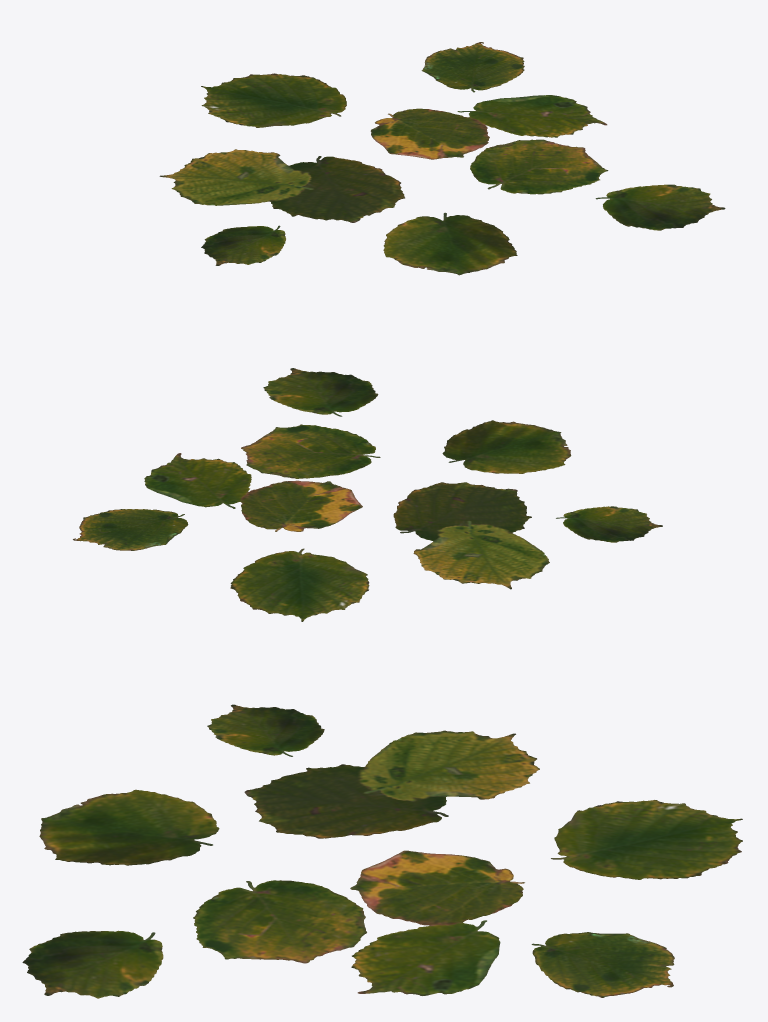
File: Leaves_Floor_01_C.fbx
The picture shows the model from 3 angles, top to bottom: view 1: azimuth 30°, elevation 25°; view 2: azimuth 150°, elevation 25°; view 3: azimuth 270°, elevation 25°; orthographic projection. The views are drawn at different scales.
Parts seen in each view (by area): view 1: Leaves_Floor_01_C; view 2: Leaves_Floor_01_C; view 3: Leaves_Floor_01_C.
Boxes of the visible parts, x1=… form: Leaves_Floor_01_C: x1=159, y1=42, x2=725, y2=275; Leaves_Floor_01_C: x1=73, y1=368, x2=662, y2=621; Leaves_Floor_01_C: x1=22, y1=704, x2=742, y2=998.
Bounding box in the file's own units: 55.13 × 0.9953 × 55.78.
